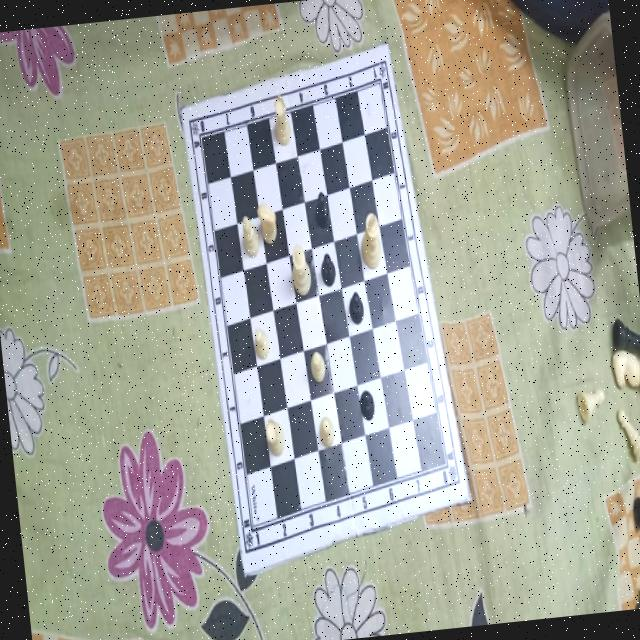corners: (175, 98, 191, 125), (463, 486, 477, 511), (381, 37, 394, 63), (238, 562, 252, 584)
